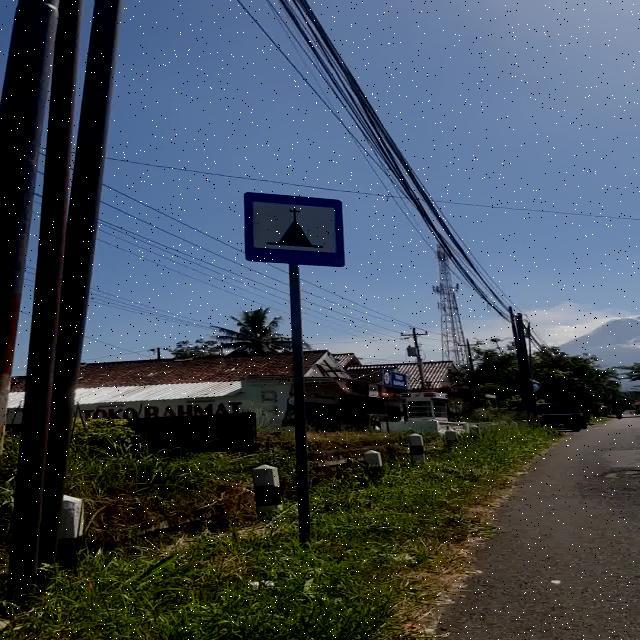Gereja: (244, 192, 346, 268)
